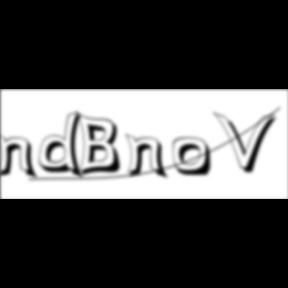B: (76, 111, 126, 179)
V: (215, 110, 282, 176)
d: (39, 110, 89, 182)
n: (126, 132, 172, 181), (0, 132, 42, 181)
o: (172, 137, 214, 179)
